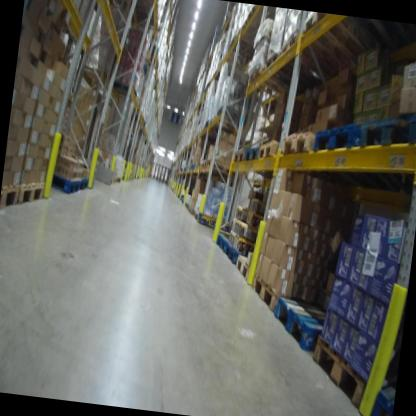pallet: (307, 118, 404, 201), (305, 333, 382, 413), (350, 105, 416, 198), (296, 11, 377, 72), (245, 265, 323, 327), (269, 292, 338, 354), (279, 28, 342, 83), (260, 44, 315, 97), (242, 57, 286, 102), (34, 162, 84, 195), (277, 124, 320, 162), (18, 175, 48, 211), (367, 380, 395, 416), (232, 250, 257, 282), (0, 180, 22, 214), (256, 138, 284, 164), (204, 157, 238, 178), (223, 240, 244, 267), (212, 231, 229, 256), (77, 173, 94, 194), (194, 213, 216, 227), (242, 146, 261, 161), (231, 145, 245, 164), (200, 159, 208, 172), (186, 205, 194, 215), (191, 207, 197, 218)
